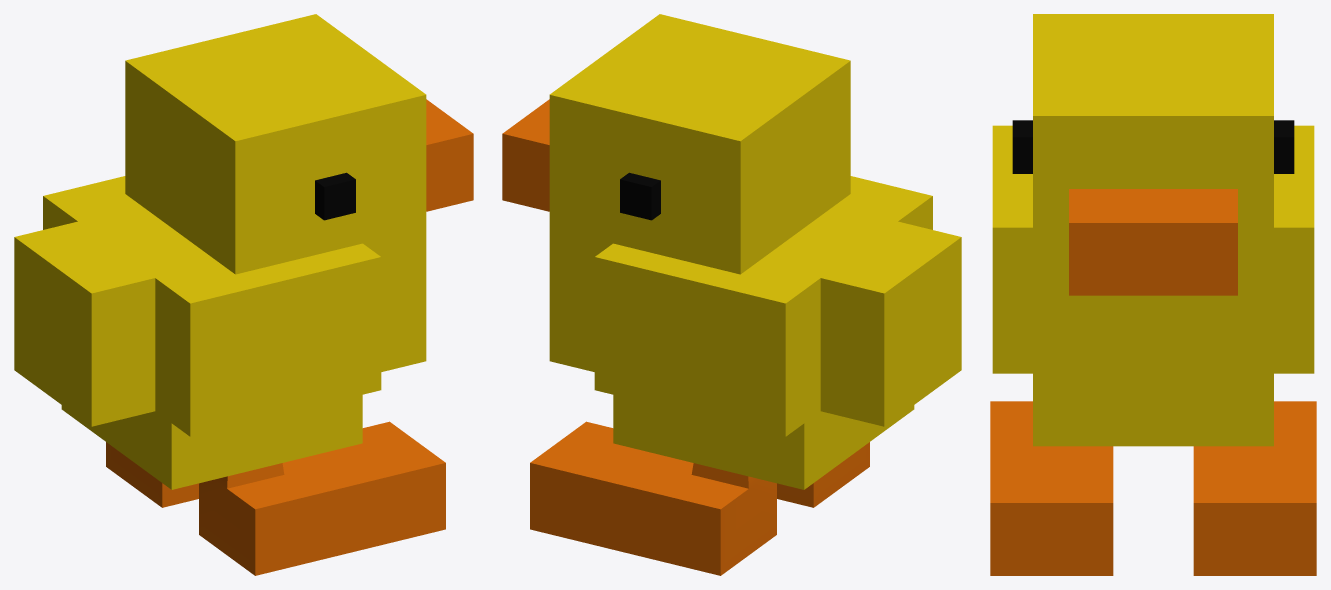
Rendered from duckling.fbx.
The picture shows the model from 3 angles, left to right: view 1: azimuth 30°, elevation 25°; view 2: azimuth 150°, elevation 25°; view 3: azimuth 270°, elevation 25°; orthographic projection. The views are drawn at different scales.
Parts seen in each view (by area): view 1: pCube199; view 2: pCube199; view 3: pCube199.
Part boxes in pixels (x1=…): pCube199: x1=14, y1=14, x2=473, y2=575; pCube199: x1=502, y1=14, x2=961, y2=575; pCube199: x1=990, y1=14, x2=1316, y2=575.
Bounding box in the file's own units: 6 × 6.31 × 4.06.
